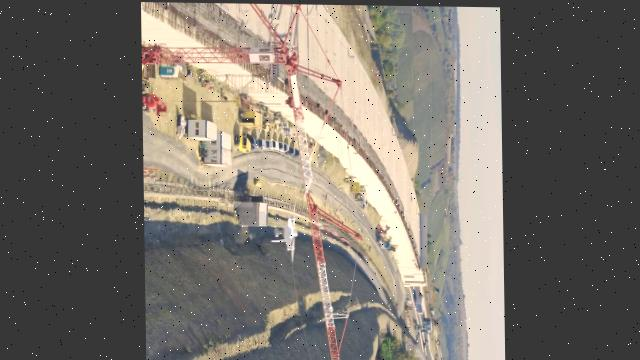drone: (270, 208, 299, 262)
